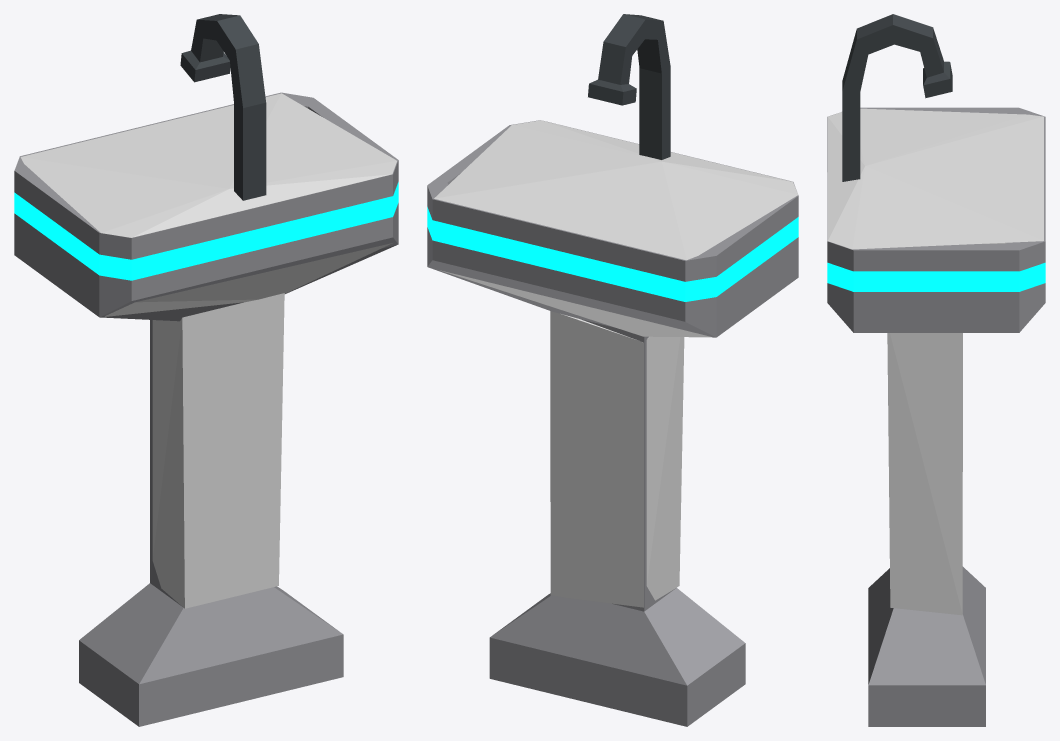
Rendered from SM_Prop_Sink_01.fbx.
3 views of the same model, side by side, from view 1: azimuth 30°, elevation 25°; view 2: azimuth 150°, elevation 25°; view 3: azimuth 270°, elevation 25° (orthographic). The views are drawn at different scales.
Parts seen in each view (by area): view 1: SM_Prop_Sink_01_ConvexHulls, SM_Prop_Sink_01_LOD0; view 2: SM_Prop_Sink_01_ConvexHulls, SM_Prop_Sink_01_LOD0; view 3: SM_Prop_Sink_01_ConvexHulls, SM_Prop_Sink_01_LOD0.
Boxes of the visible parts, box(x1,y1,x2,y2) form: SM_Prop_Sink_01_ConvexHulls: box(20, 93, 396, 608); SM_Prop_Sink_01_LOD0: box(14, 14, 398, 726); SM_Prop_Sink_01_ConvexHulls: box(434, 120, 797, 607); SM_Prop_Sink_01_LOD0: box(427, 14, 798, 726); SM_Prop_Sink_01_ConvexHulls: box(827, 108, 1043, 615); SM_Prop_Sink_01_LOD0: box(827, 14, 1045, 726).
Size of the model in its own units: 36.78 by 56.79 by 122.
1 material, 1 textured.
